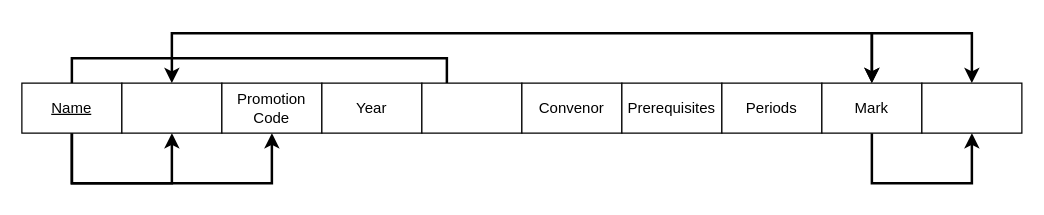
Image size: 1044x215. Some labels were removed from this diagram. Each missing label, with the centre of its shape:
Course: point 471,107
Qualify: point 171,107
Symbol: point 971,107
